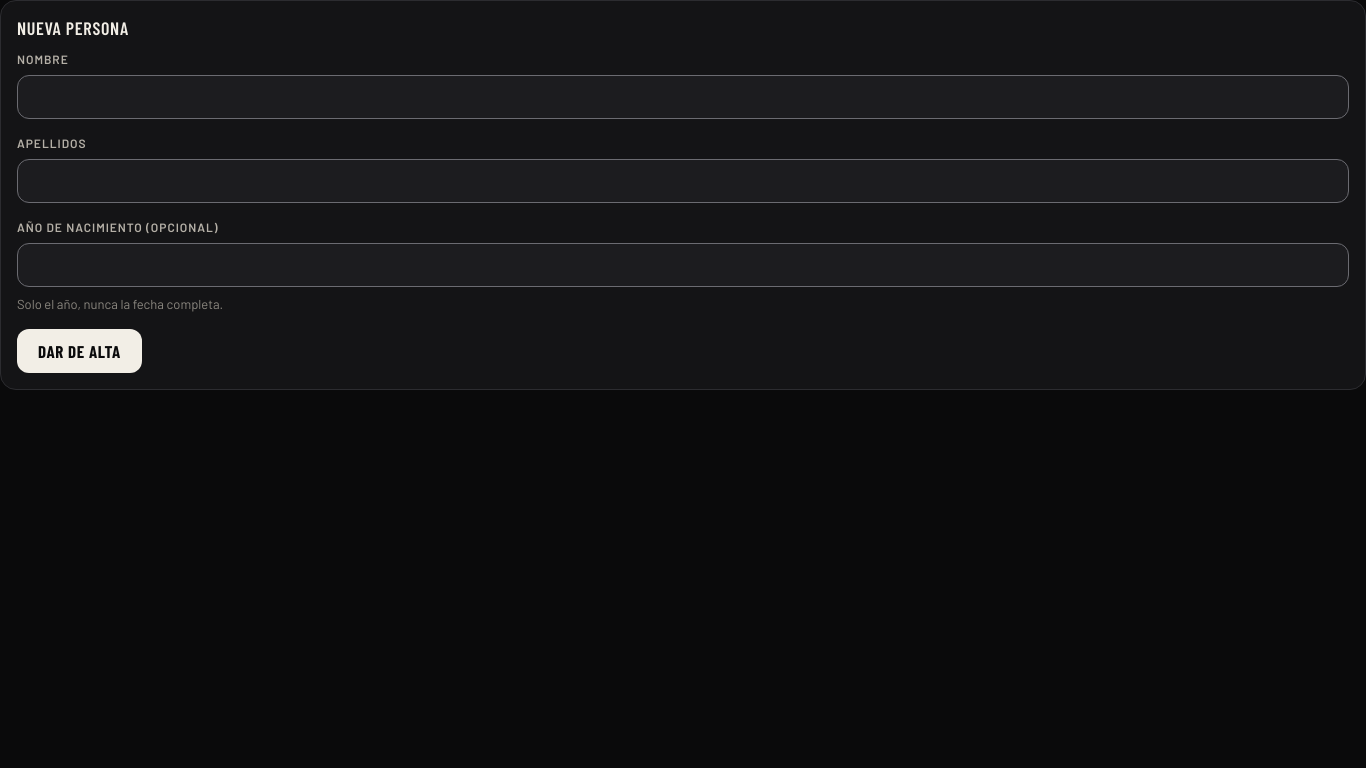
Test: PersonEditor · una persona nueva › entrada inválida: el aviso general y cada error bajo su campo, enlazado; no navega
In the number field labelled "Año de nacimiento (opcional)": (683, 265) [17,243,1349,287], type "1800"
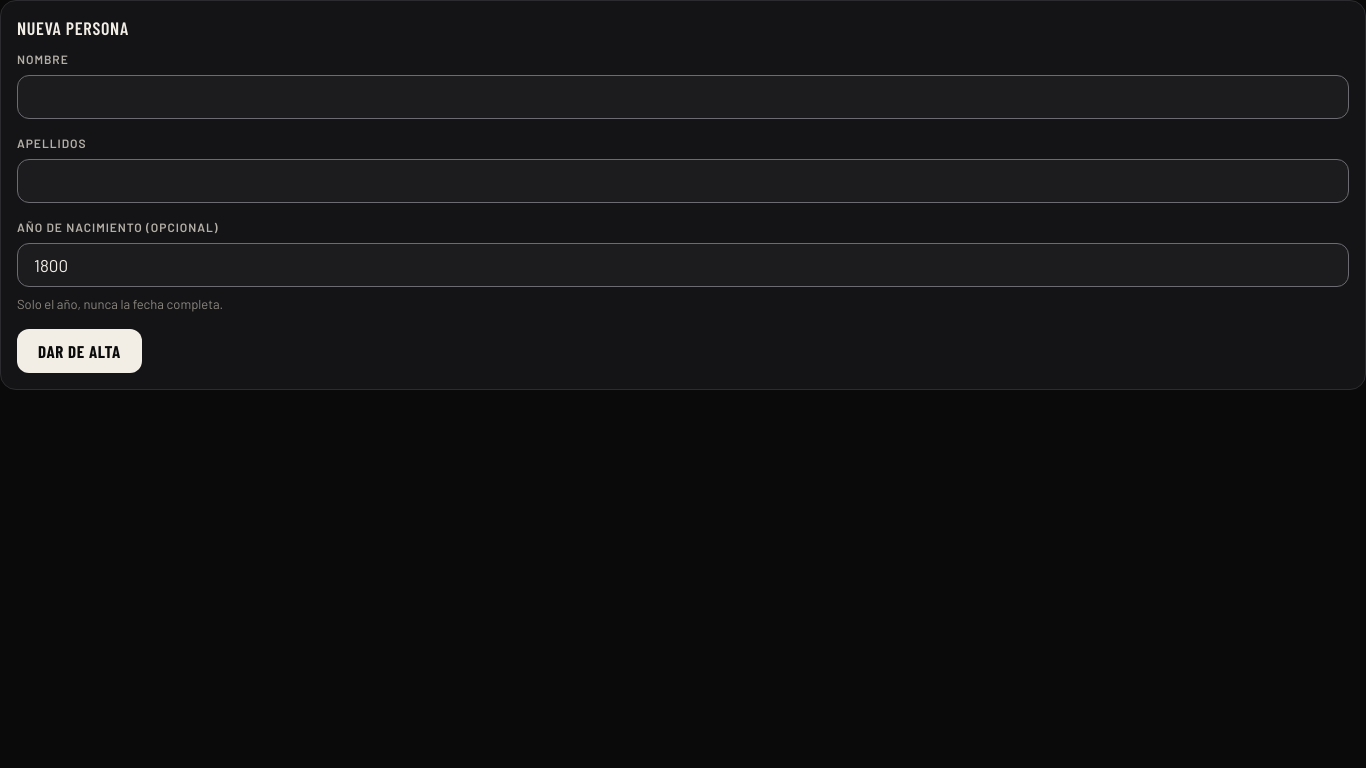
Click the button "Dar de alta": (80, 351) [17,329,142,373]
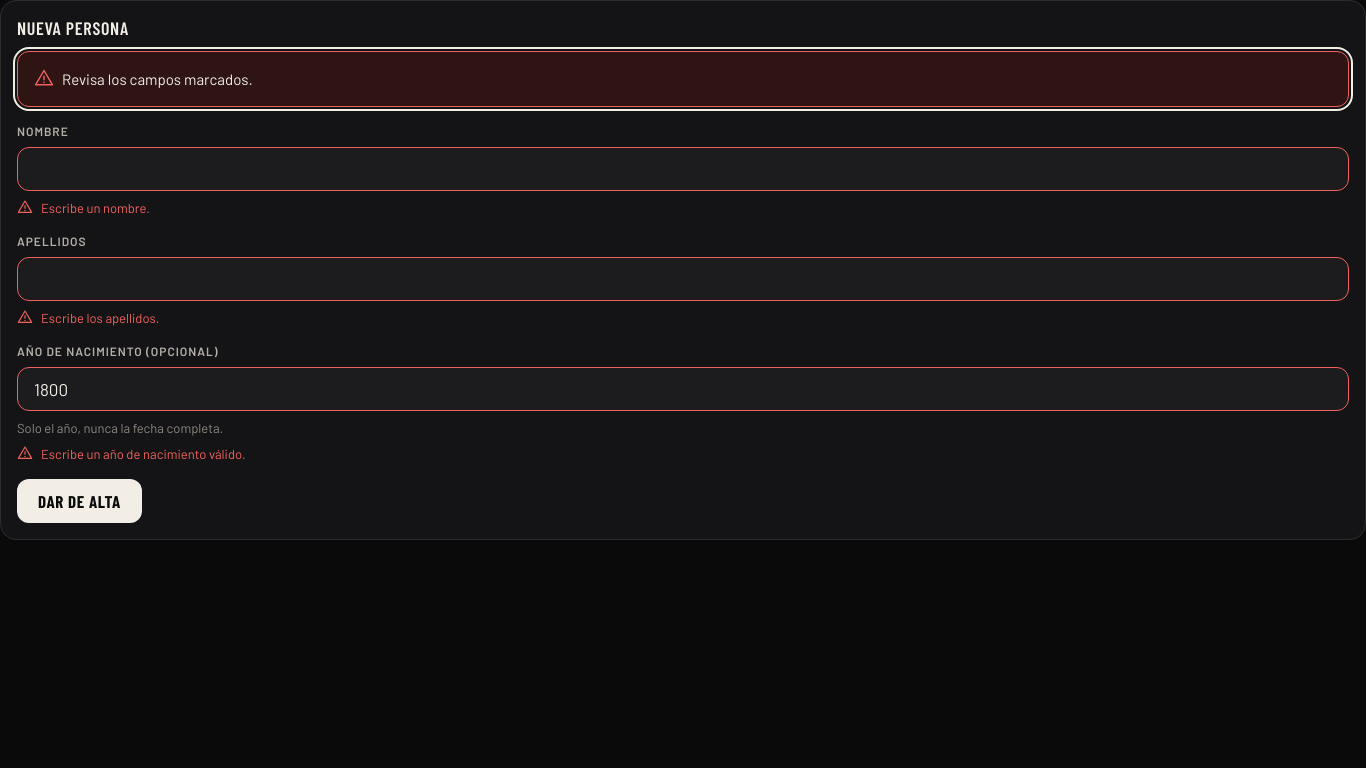
Check: the text "Revisa los campos marcados." is shown, box [34,68,253,88]
